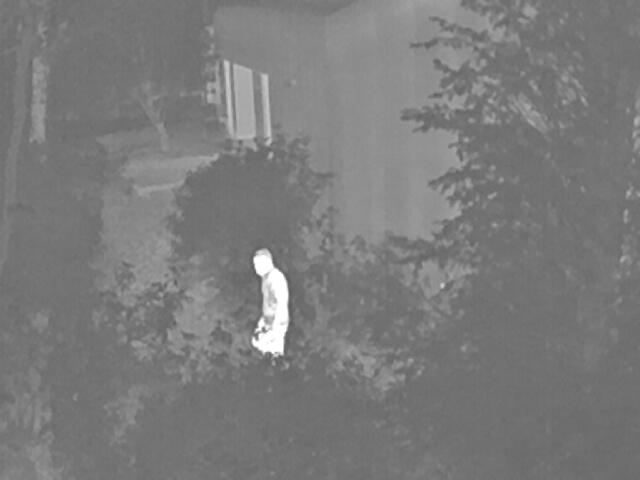person: (251, 247, 288, 358)
